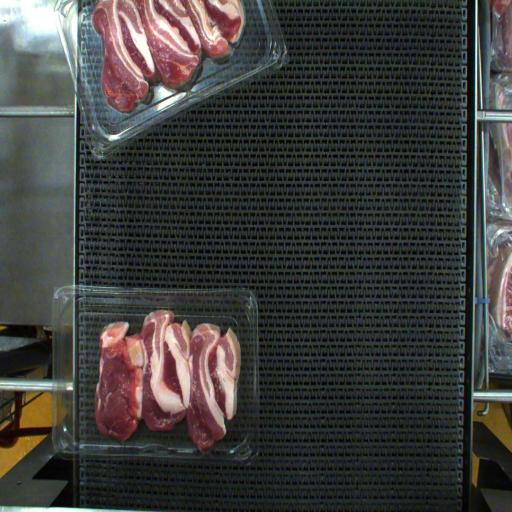packaging-error: (187, 438, 219, 472)
